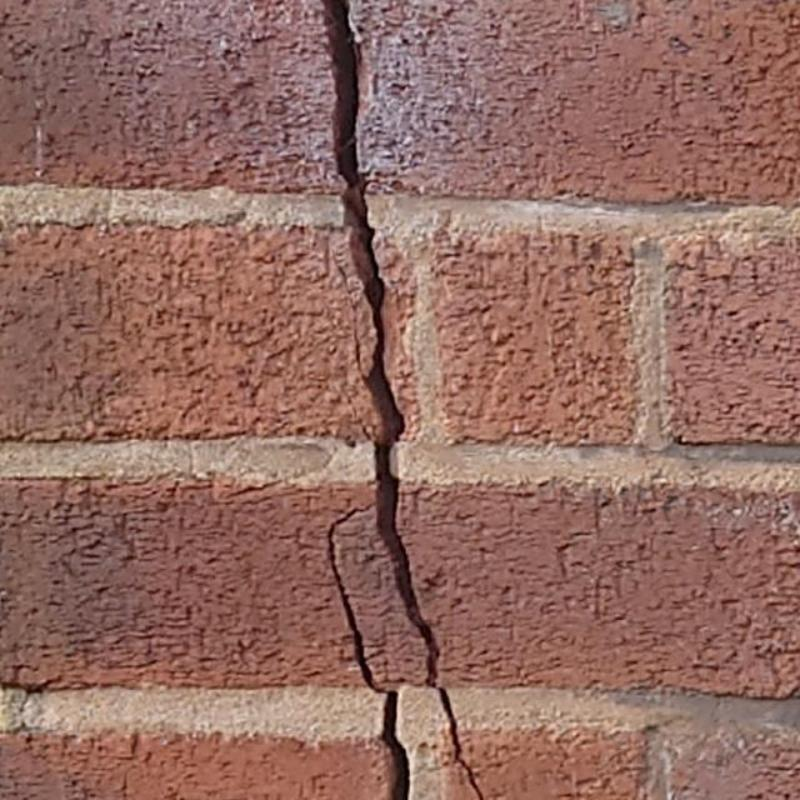pothole: (325, 0, 484, 799), (328, 511, 412, 799)
